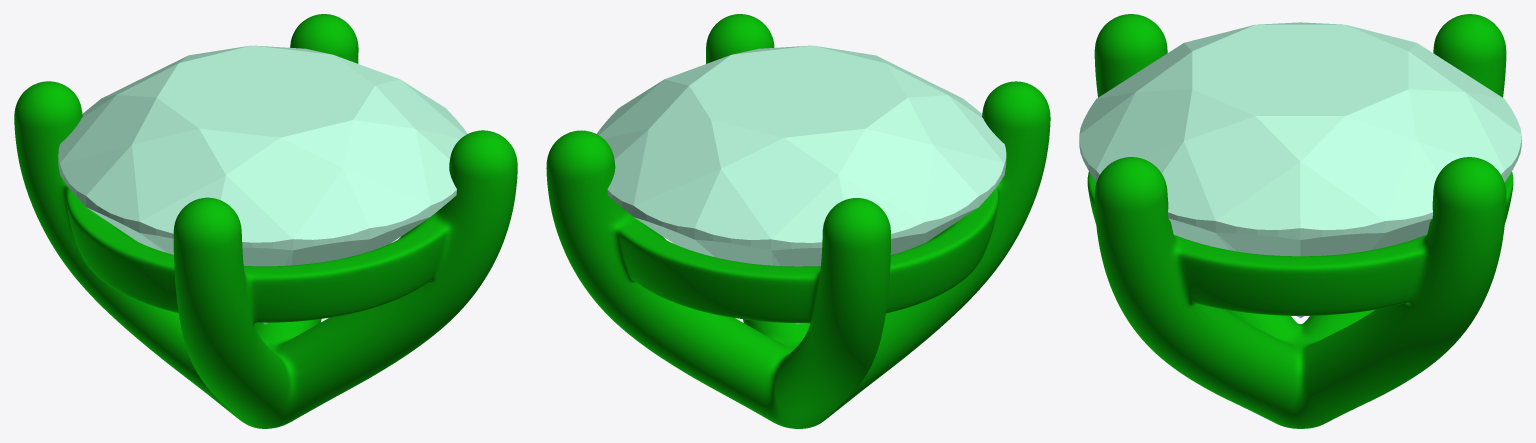
3 renders of one model, left to right at view 1: azimuth 30°, elevation 25°; view 2: azimuth 150°, elevation 25°; view 3: azimuth 270°, elevation 25°, orthographic. The views are drawn at different scales.
Visible parts, largest first — view 1: Metal01, CS_Diamond; view 2: Metal01, CS_Diamond; view 3: CS_Diamond, Metal01.
Boxes of the visible parts, left/top/right/bottom form: Metal01: left=14, top=14, right=517, bottom=428; CS_Diamond: left=58, top=45, right=467, bottom=324; Metal01: left=546, top=14, right=1050, bottom=428; CS_Diamond: left=596, top=45, right=1006, bottom=324; CS_Diamond: left=1079, top=22, right=1521, bottom=318; Metal01: left=1087, top=14, right=1513, bottom=428.
Size of the model in its own units: 7.45 by 6.52 by 7.45.
